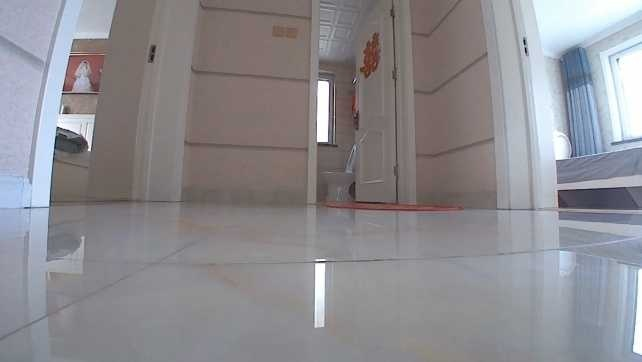bed: (546, 129, 640, 207), (49, 110, 98, 200)
blanket: (325, 201, 464, 211)
door_anno: (351, 2, 417, 205)
toilet: (321, 144, 355, 203)
